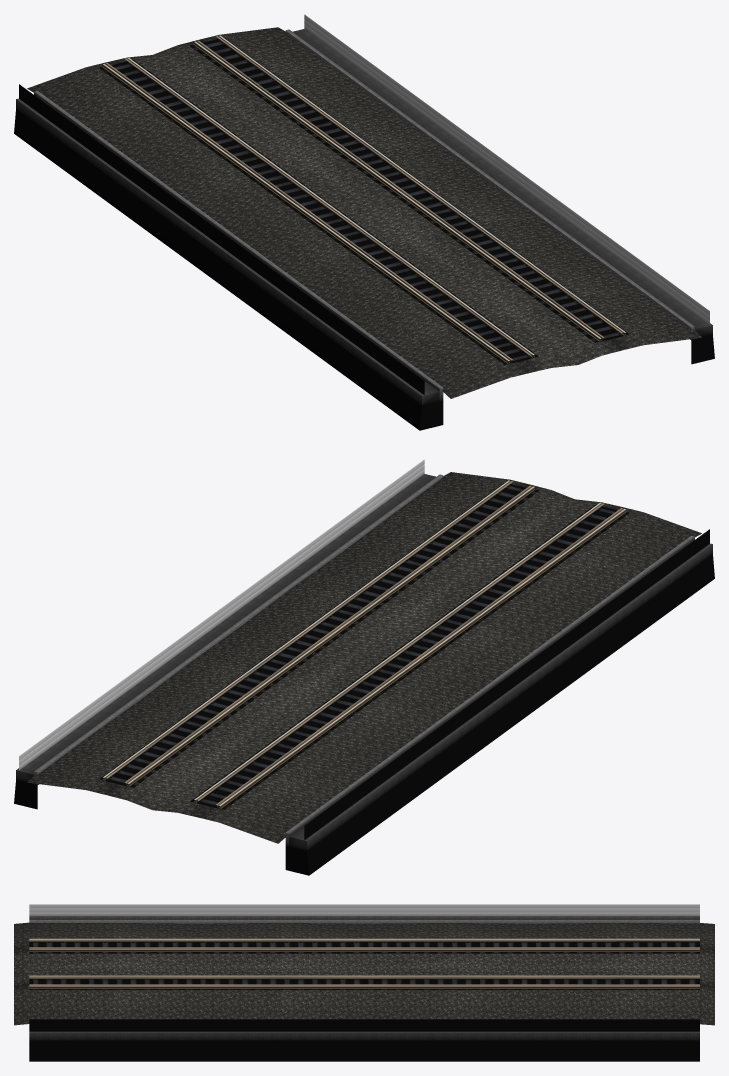
Rendered from TOB_2RAIL_RANKAN1_100.glb.
3 views of the same model, one above another, from view 1: azimuth 30°, elevation 25°; view 2: azimuth 150°, elevation 25°; view 3: azimuth 270°, elevation 25° (orthographic). The views are drawn at different scales.
Visible parts, largest first — view 1: LeftWall, R000_RG_R, R000_RG_L; view 2: LeftWall, R000_RG_R, R000_RG_L; view 3: LeftWall, R000_RG_R, R000_RG_L.
Part boxes in pixels (bbox=[...]): LeftWall: bbox=[14, 14, 714, 430]; R000_RG_R: bbox=[105, 40, 604, 361]; R000_RG_L: bbox=[124, 36, 622, 355]; LeftWall: bbox=[14, 459, 714, 875]; R000_RG_R: bbox=[124, 485, 623, 806]; R000_RG_L: bbox=[105, 481, 604, 802]; LeftWall: bbox=[14, 904, 714, 1061]; R000_RG_R: bbox=[29, 939, 699, 978]; R000_RG_L: bbox=[29, 947, 699, 985].
Size of the model in its own units: 42 by 6.62 by 105.
Materials: 8 (7 with a texture image).
